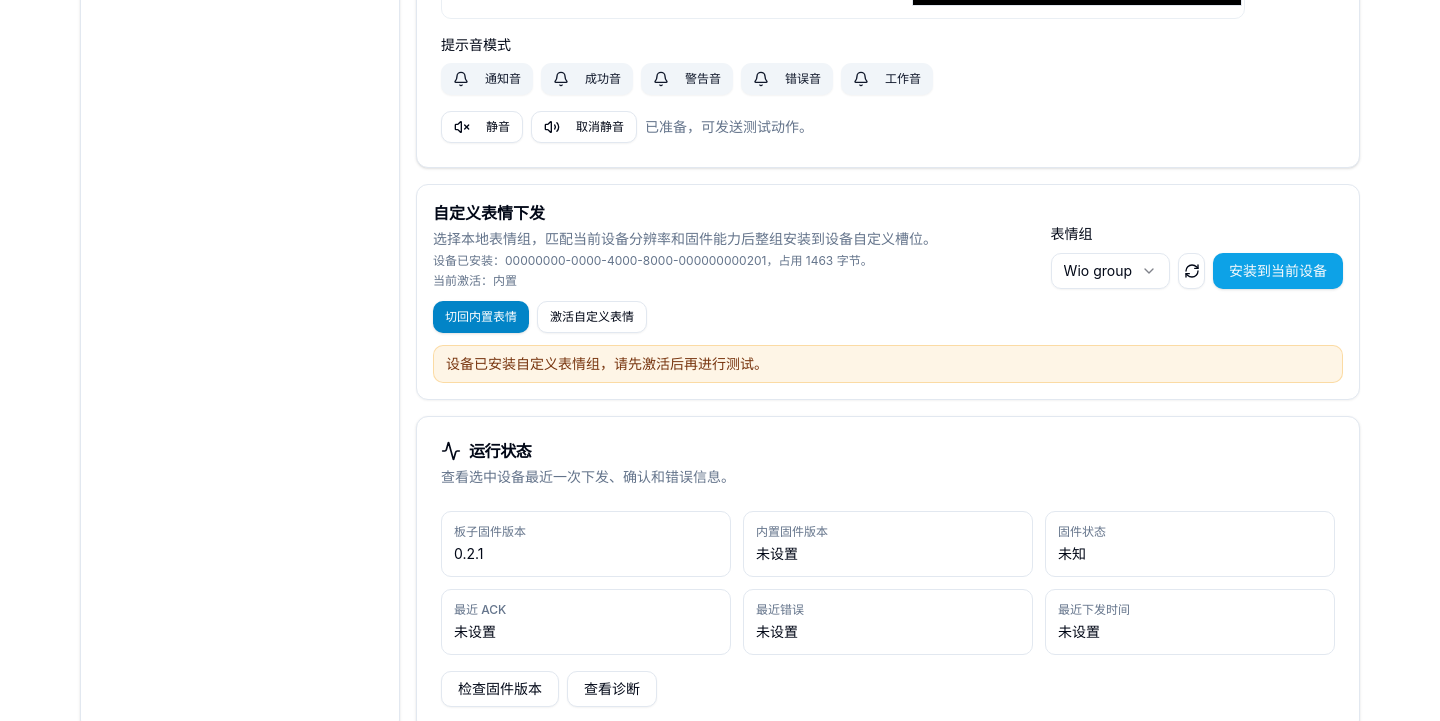
Scenario: DevicesPage › shows activation failure separately from install failure
The image size is (1440, 721).
(page scrolled)
Expected: the text "Wio group" is shown, [1064, 260, 1132, 280]
Step 1. Click the button "激活自定义表情" → point(592, 316), box [537, 300, 647, 332]
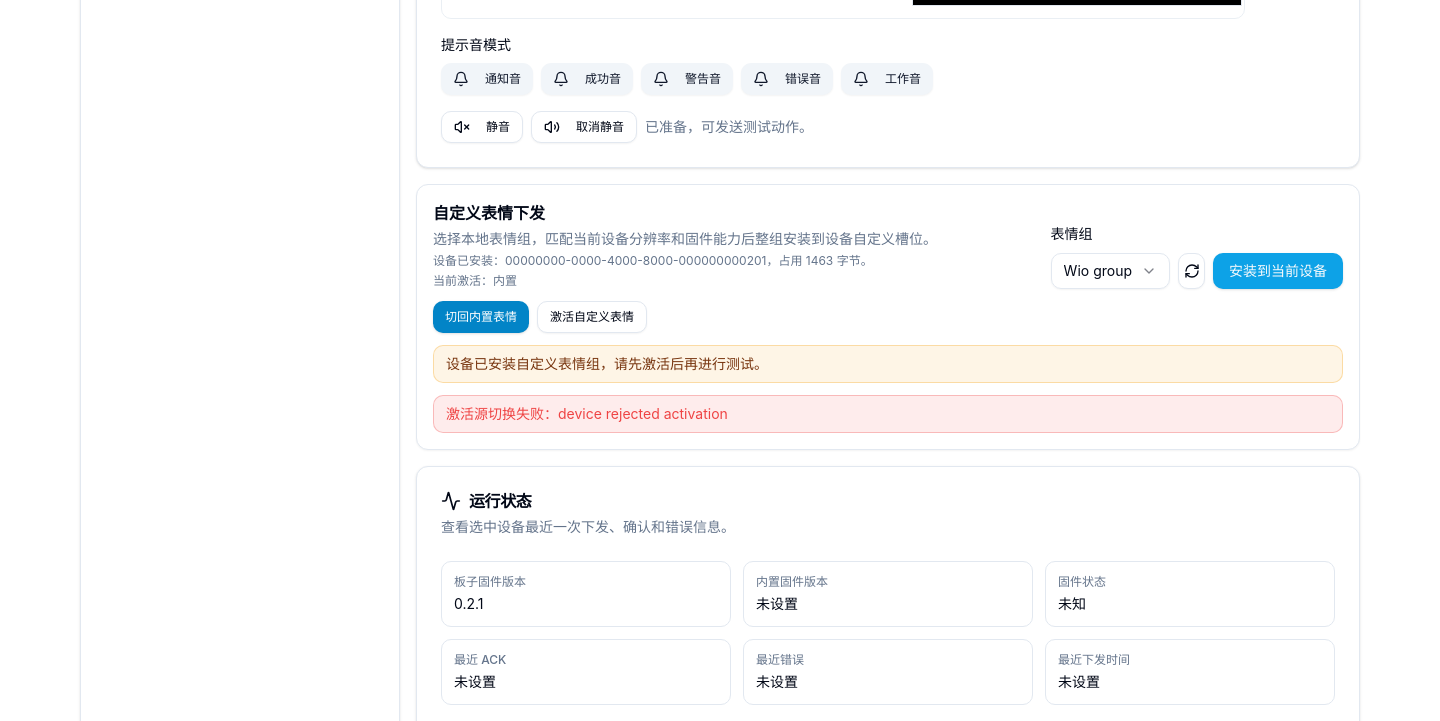
Expected: the text "激活源切换失败：device rejected activation" is shown, [433, 394, 1343, 432]
